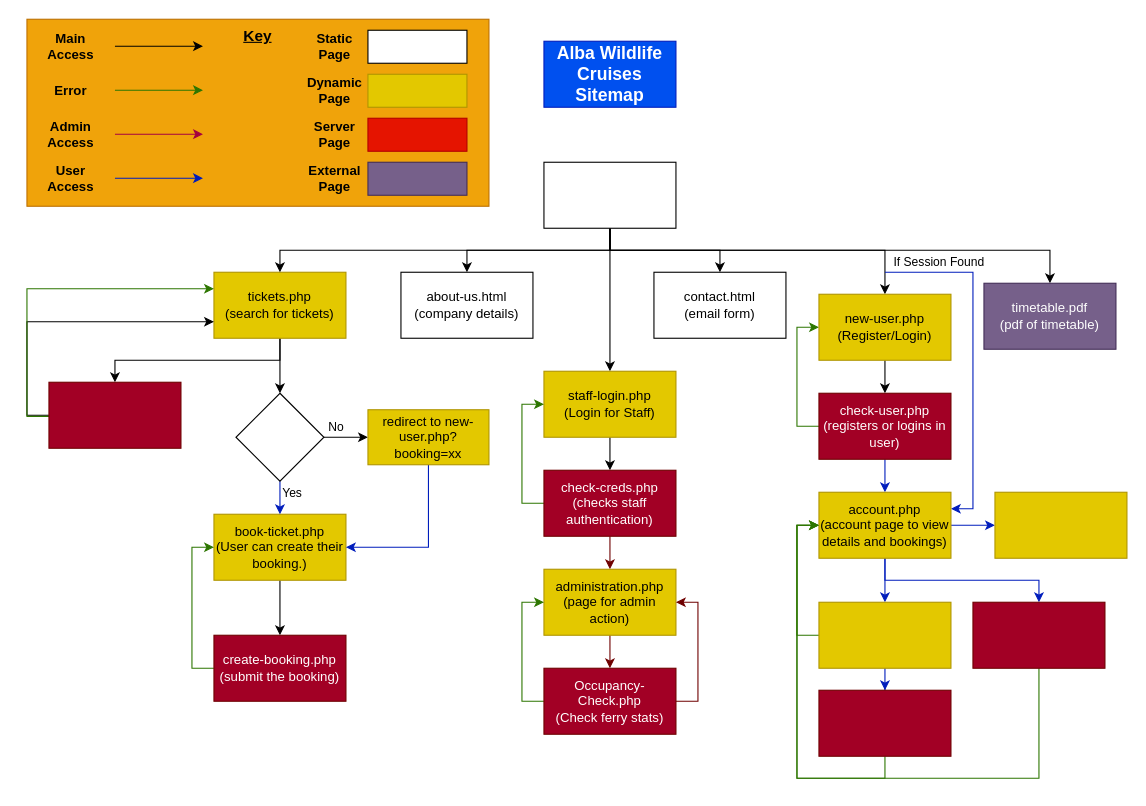
The diagram is 1146 pixels wide and 806 high, and some of its shapes have lost their labels. Here are the shapes that lost their labels. From the top down, the centre of each, then its label:
At [609,194]: "index.html (home page)".
At [114,414]: "ticket-search.php (Run query for available tickets)".
At [279,436]: "Signed In?".
At [1060,524]: "eigg-ceilidh.php (Event page for frequent customers)".
At [884,634]: "change-booking.php (change booking details)".
At [1038,634]: "update-user.php (change user details / delete)".
At [884,722]: "update-booking.php (update / delete booking)".
